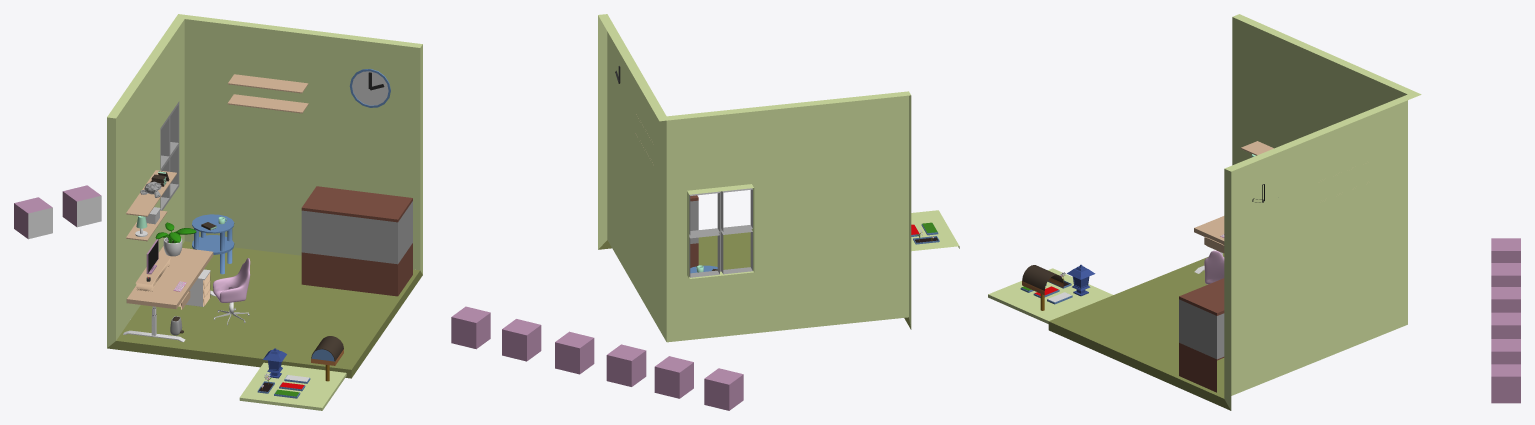
The model's file is room_portfolio_version_2.glb.
The picture shows the model from 3 angles, left to right: view 1: azimuth 30°, elevation 25°; view 2: azimuth 150°, elevation 25°; view 3: azimuth 270°, elevation 25°; orthographic projection. The views are drawn at different scales.
Visible parts, largest first — view 1: Body.001, Aquarium.001, Desks.001, Shelves.001, Mini Floor.001, Table Stuff.001, Cube.004, Cube.005, Clock.001, Floor items.001, Chair.001, Mailbox.001 (+1 smaller); view 2: Body.001, Cube, Cube.005, Cube.003, Cube.004, Cube.001, Cube.002, Mini Floor.001, Aquarium.001; view 3: Body.001, Aquarium.001, Mini Floor.001, Cube.003, Mailbox.001, Cube.001, Desks.001, Cube, Cube.002, Cube.005, Cube.004, Chair.001 (+1 smaller).
Boxes of the visible parts, <box> form: Body.001: <box>107,14,422,378</box>; Aquarium.001: <box>301,186,412,296</box>; Desks.001: <box>123,214,234,342</box>; Shelves.001: <box>126,74,308,241</box>; Mini Floor.001: <box>239,362,346,410</box>; Table Stuff.001: <box>135,216,226,291</box>; Cube.004: <box>62,185,101,227</box>; Cube.005: <box>14,197,52,239</box>; Clock.001: <box>349,68,390,107</box>; Floor items.001: <box>170,269,249,335</box>; Chair.001: <box>213,258,250,302</box>; Mailbox.001: <box>311,336,343,381</box>; Body.001: <box>598,14,911,342</box>; Cube: <box>606,344,646,386</box>; Cube.005: <box>704,368,743,410</box>; Cube.003: <box>451,306,490,349</box>; Cube.004: <box>654,356,693,398</box>; Cube.001: <box>555,331,594,374</box>; Cube.002: <box>502,319,541,361</box>; Mini Floor.001: <box>911,210,959,251</box>; Aquarium.001: <box>690,195,698,267</box>; Body.001: <box>1048,14,1421,410</box>; Aquarium.001: <box>1179,278,1224,392</box>; Mini Floor.001: <box>988,268,1112,323</box>; Cube.003: <box>1491,364,1520,403</box>; Mailbox.001: <box>1022,265,1063,310</box>; Cube.001: <box>1491,312,1520,338</box>; Desks.001: <box>1194,216,1224,273</box>; Cube: <box>1491,287,1520,312</box>; Cube.002: <box>1491,339,1520,364</box>; Cube.005: <box>1491,238,1520,262</box>; Cube.004: <box>1491,263,1520,286</box>; Chair.001: <box>1204,250,1224,284</box>.
Size of the model in its own units: 25.73 by 17.95 by 36.23.
